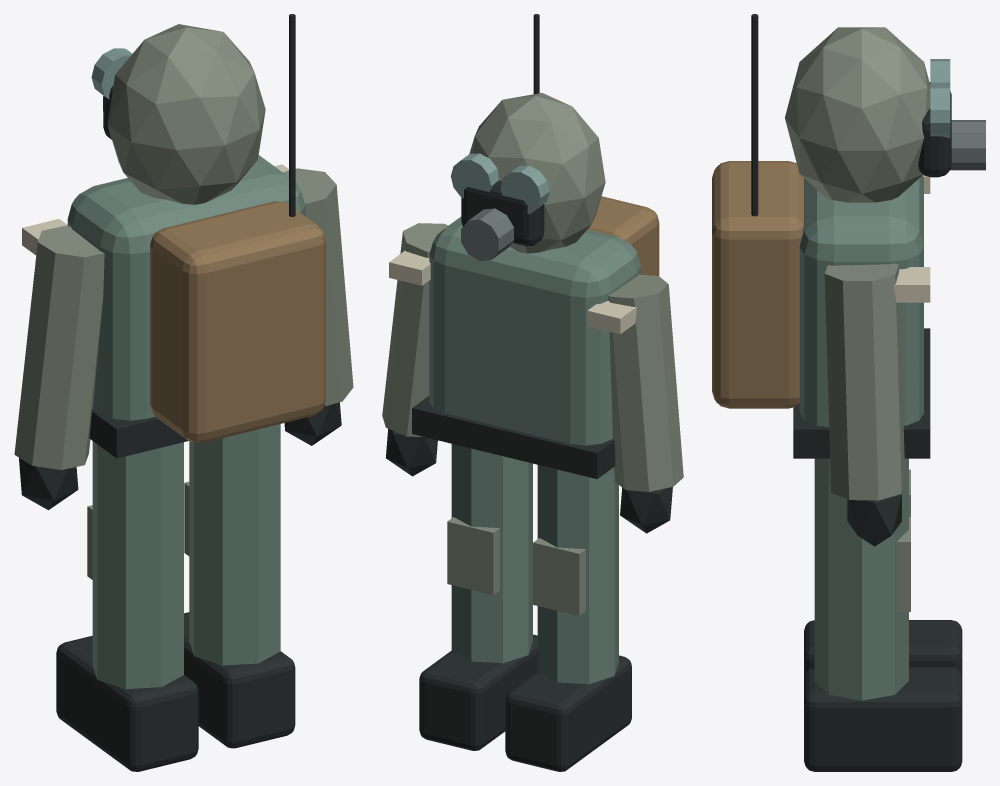
Rendered from avatar.glb.
3 renders of one model, left to right at view 1: azimuth 30°, elevation 25°; view 2: azimuth 150°, elevation 25°; view 3: azimuth 270°, elevation 25°, orthographic. The views are drawn at different scales.
Parts seen in each view (by area): view 1: avatar; view 2: avatar; view 3: avatar.
Part boxes in pixels (x1,y1,x2,y2): avatar: (14,14,353,771); avatar: (382,14,683,771); avatar: (712,14,985,771).
Size of the model in its own units: 0.8805 by 1.92 by 0.64.
